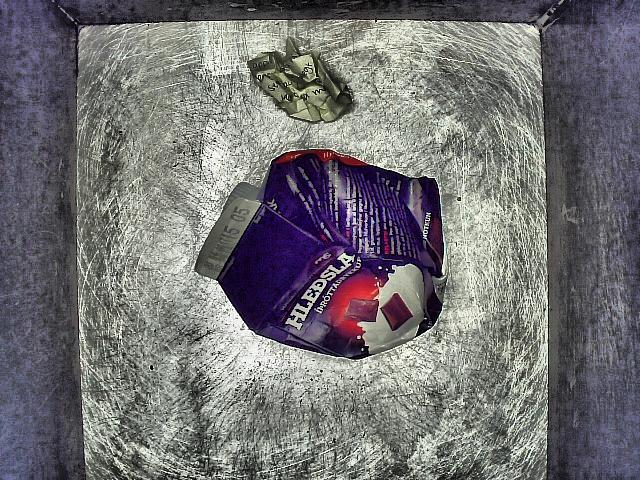Paper: (185, 153, 485, 369), (230, 36, 358, 127)
